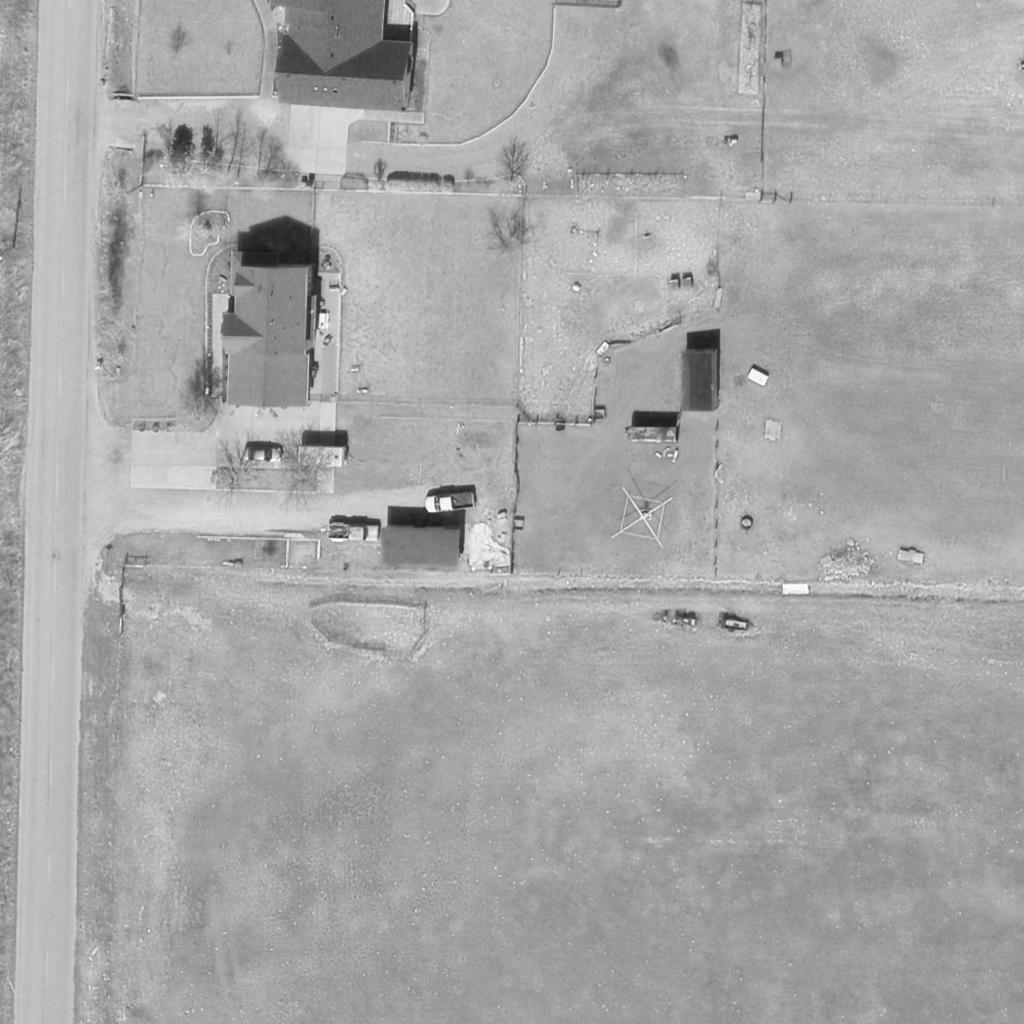vehicle: (424, 493, 476, 513), (327, 524, 379, 542), (300, 448, 344, 468), (243, 446, 283, 462)
